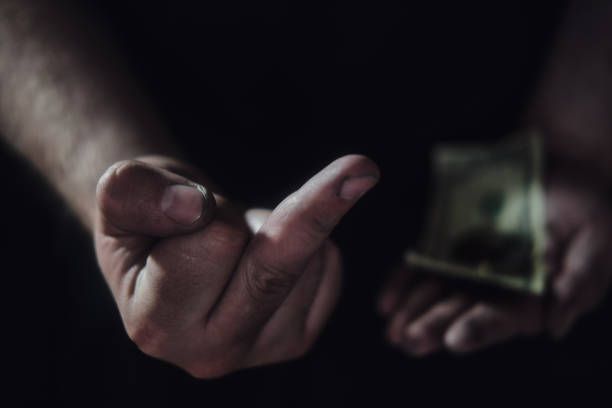insulting_gesture: (95, 150, 380, 383)
